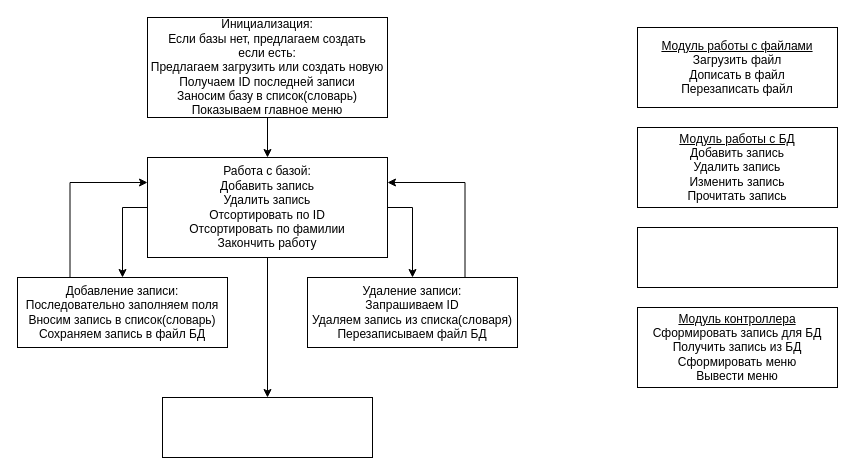
Image size: 855x475. Some labels were removed from this diagram. Each missing label, with the centre of its shape:
"Модуль визуализации Показать запись из БД Показать сообщение" goes at [737,257].
"Окончание работы: Вывести прощальное сообщение Завершить работу программы" goes at [267,427].
